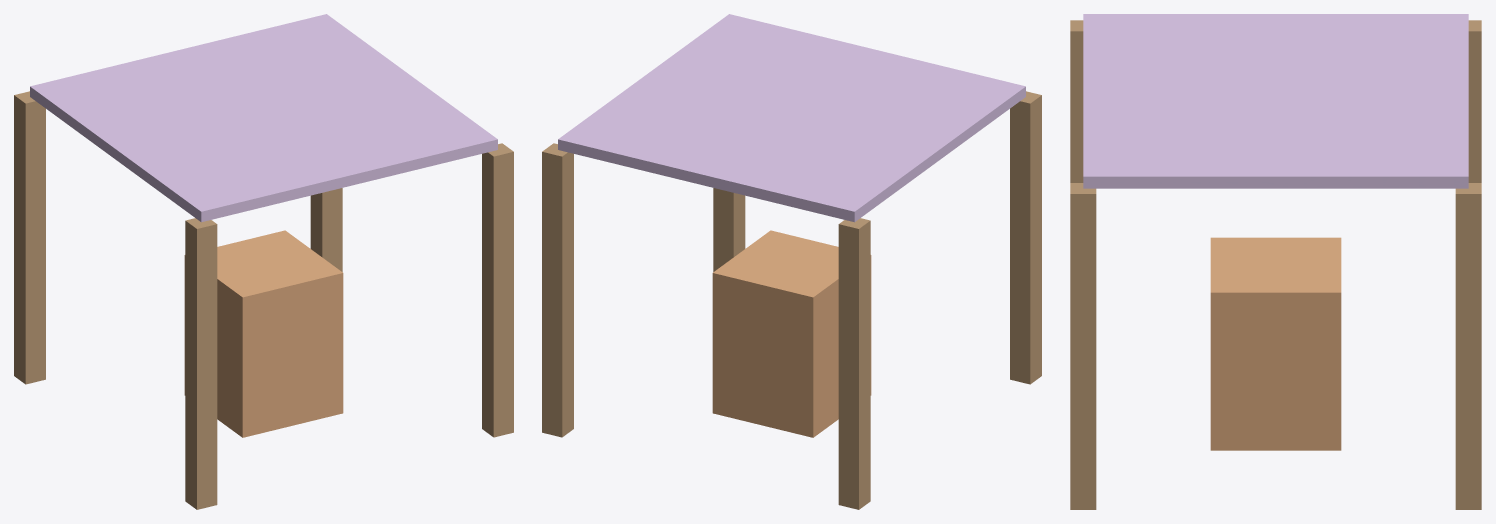
The model's file is Prop_Water_AMF_RainCatcher_V1.glb.
3 renders of one model, left to right at view 1: azimuth 30°, elevation 25°; view 2: azimuth 150°, elevation 25°; view 3: azimuth 270°, elevation 25°, orthographic. The views are drawn at different scales.
Visible parts, largest first — view 1: Prop_Water_AMF_RainCatcher_V1; view 2: Prop_Water_AMF_RainCatcher_V1; view 3: Prop_Water_AMF_RainCatcher_V1.
Boxes of the visible parts, x1=… form: Prop_Water_AMF_RainCatcher_V1: x1=14, y1=14, x2=513, y2=509; Prop_Water_AMF_RainCatcher_V1: x1=542, y1=14, x2=1041, y2=509; Prop_Water_AMF_RainCatcher_V1: x1=1070, y1=14, x2=1481, y2=509.
Size of the model in its own units: 1.89 by 1.66 by 1.89.
